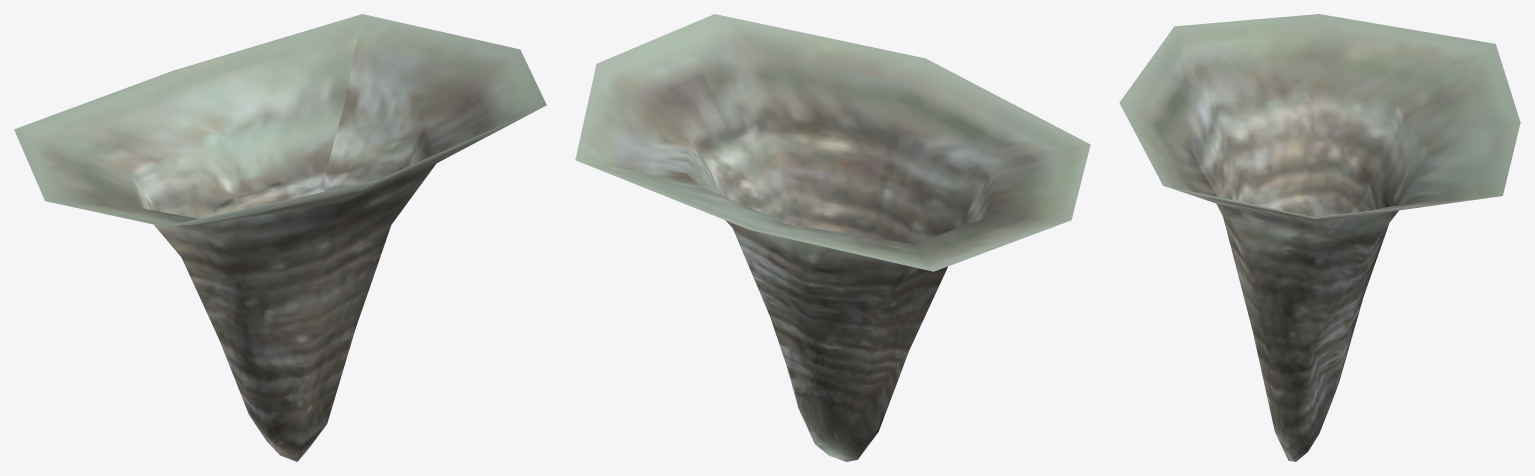
The model's file is TROLLHOLE02_PS-MAINSTALAG71.fbx.
The picture shows the model from 3 angles, left to right: view 1: azimuth 30°, elevation 25°; view 2: azimuth 150°, elevation 25°; view 3: azimuth 270°, elevation 25°; orthographic projection. The views are drawn at different scales.
Visible parts, largest first — view 1: TROLLHOLE02_PS-MAINSTALAG71; view 2: TROLLHOLE02_PS-MAINSTALAG71; view 3: TROLLHOLE02_PS-MAINSTALAG71.
Boxes of the visible parts, <box> form: TROLLHOLE02_PS-MAINSTALAG71: <box>14,14,546,461</box>; TROLLHOLE02_PS-MAINSTALAG71: <box>575,14,1090,461</box>; TROLLHOLE02_PS-MAINSTALAG71: <box>1119,14,1520,461</box>.
Size of the model in its own units: 29804 by 21310 by 20788.
Materials: 1 (1 with a texture image).
